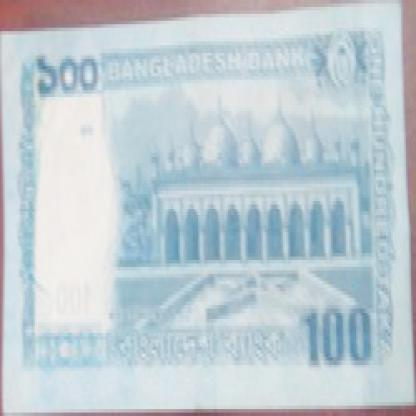one hundred taka: (288, 284, 376, 371), (30, 45, 106, 118)
